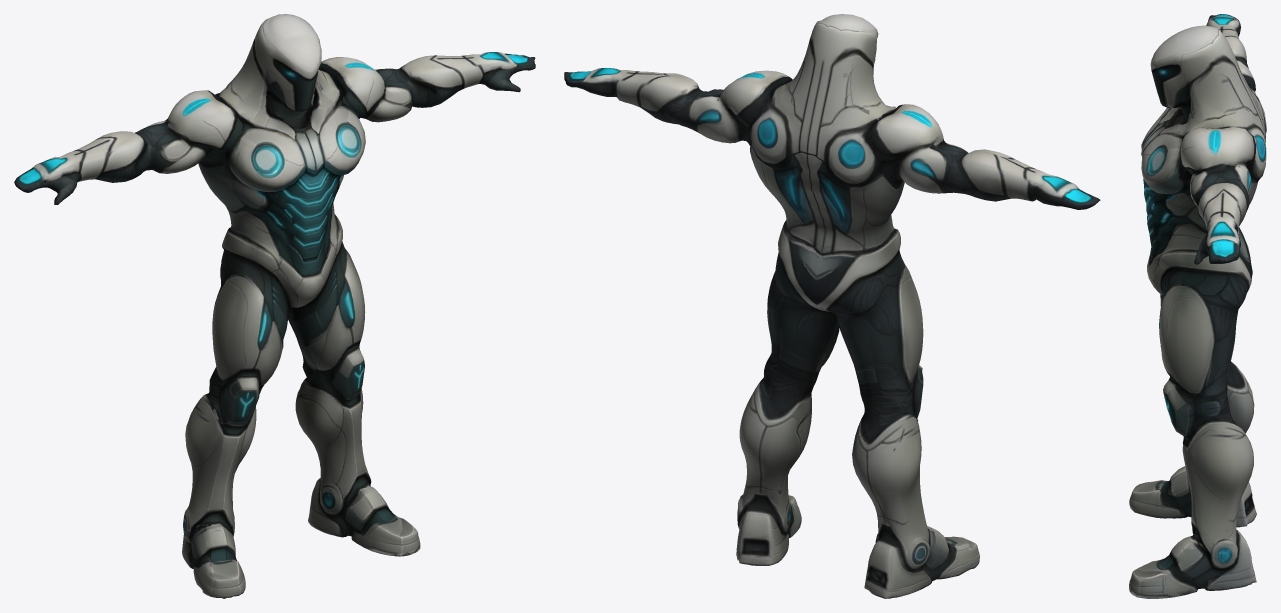
Rendered from Cyber_Sentinel_0123151004_texture.fbx.
The picture shows the model from 3 angles, left to right: view 1: azimuth 30°, elevation 25°; view 2: azimuth 150°, elevation 25°; view 3: azimuth 270°, elevation 25°; orthographic projection. The views are drawn at different scales.
Visible parts, largest first — view 1: Mesh0; view 2: Mesh0; view 3: Mesh0.
Part boxes in pixels (x1=…): Mesh0: x1=14, y1=14, x2=535, y2=598; Mesh0: x1=564, y1=14, x2=1100, y2=598; Mesh0: x1=1129, y1=14, x2=1266, y2=598.
Size of the model in its own units: 190 by 186 by 44.65.
Materials: 1 (1 with a texture image).
